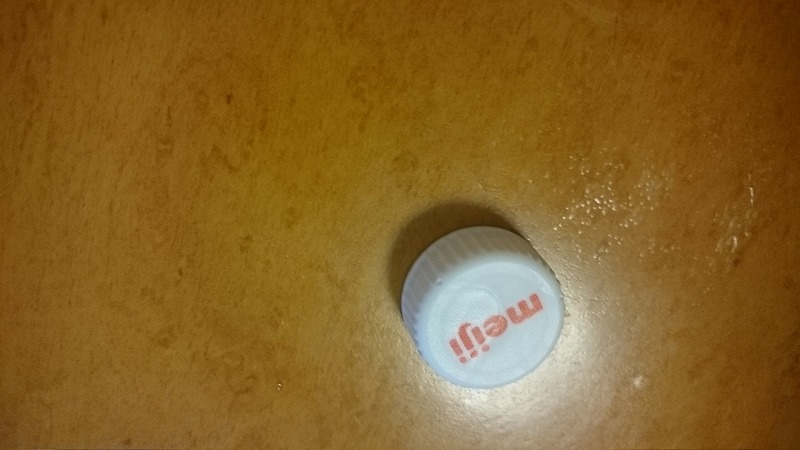B: (391, 218, 577, 394)
